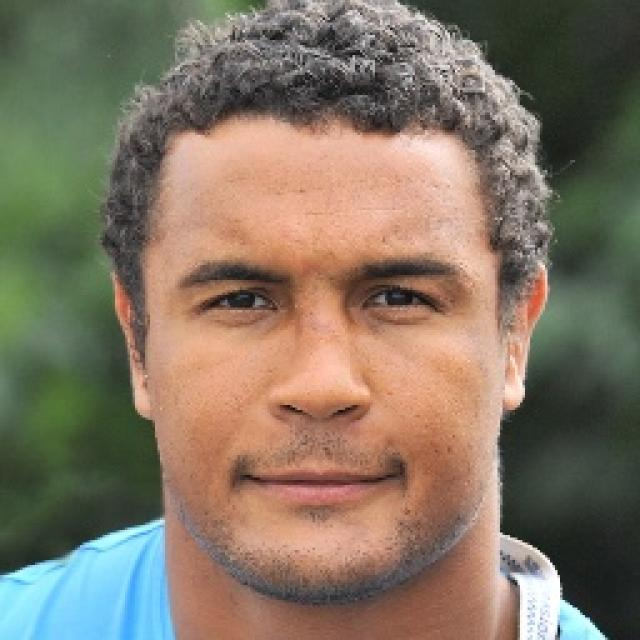earlobe: (498, 360, 528, 412), (130, 361, 156, 420)
eye: (203, 288, 276, 312), (362, 286, 429, 310)
nose: (263, 396, 376, 458)
wholeear: (499, 259, 549, 412), (110, 266, 156, 420)
